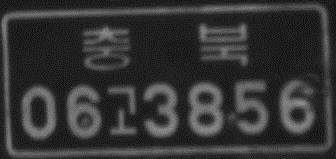0: (21, 84, 57, 141)
3: (142, 79, 178, 138)
5: (234, 78, 270, 138)
6: (277, 76, 316, 136), (65, 81, 100, 137)
8: (184, 79, 226, 138)
고: (102, 84, 136, 137)
충북_D: (80, 20, 250, 72)
